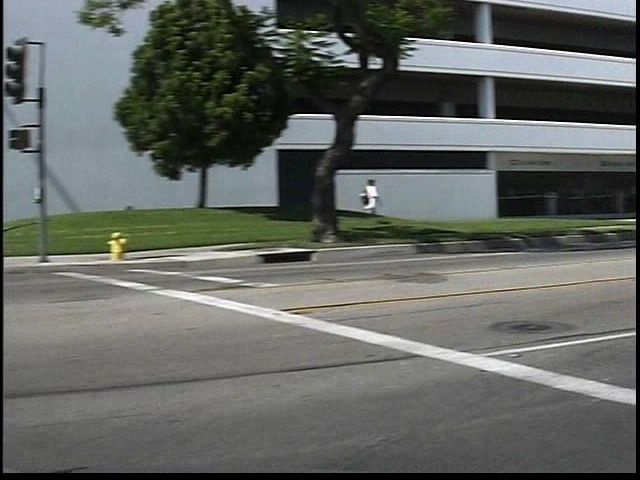person: (377, 175, 402, 236)
